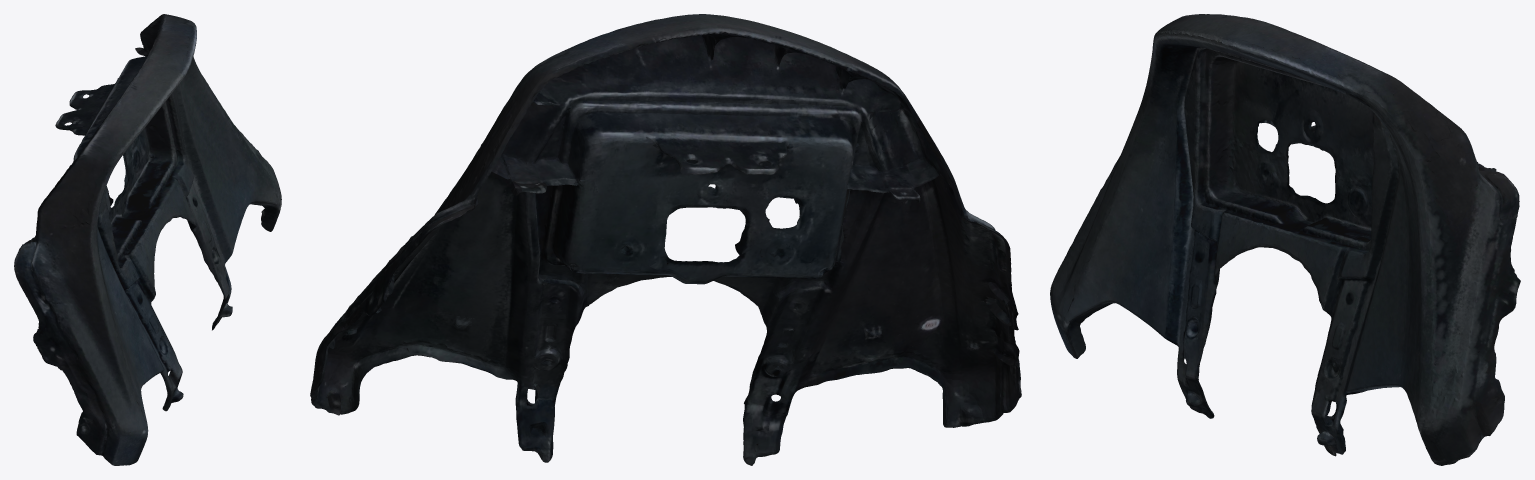
File: SPD-06114X-B.obj
The picture shows the model from 3 angles, left to right: view 1: azimuth 30°, elevation 25°; view 2: azimuth 150°, elevation 25°; view 3: azimuth 270°, elevation 25°; orthographic projection. The views are drawn at different scales.
Visible parts, largest first — view 1: SPD-06114X-B; view 2: SPD-06114X-B; view 3: SPD-06114X-B.
Boxes of the visible parts, x1,y1,x2,y2 form: SPD-06114X-B: (14,14,281,465); SPD-06114X-B: (310,14,1021,465); SPD-06114X-B: (1050,14,1520,465).
Size of the model in its own units: 374 by 313 by 333.
Materials: 1 (1 with a texture image).
